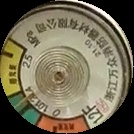green: (8, 91, 45, 126)
needle: (14, 88, 42, 111)
red: (37, 114, 92, 134)
yellow: (2, 41, 25, 97)
